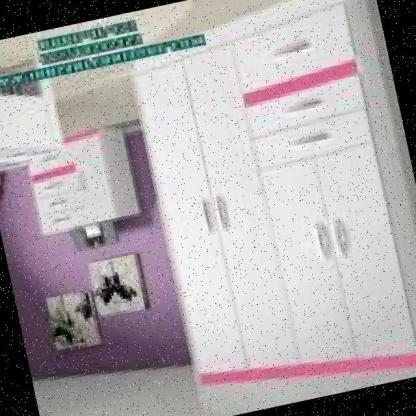Closet: (121, 0, 416, 414)
